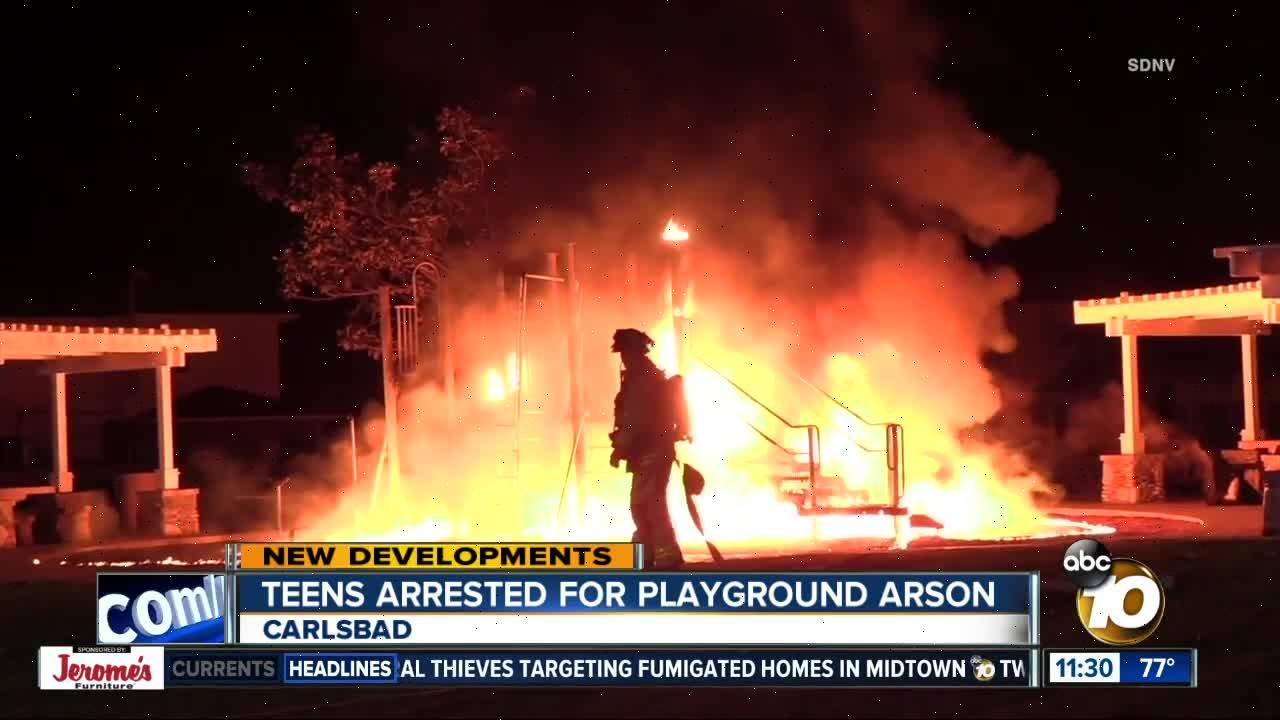fire: (303, 460, 618, 534), (783, 354, 880, 534), (885, 466, 1016, 540), (475, 346, 532, 414), (647, 198, 694, 264)
smoke: (695, 24, 1050, 348), (465, 170, 636, 332), (879, 348, 1048, 468), (347, 322, 464, 460)
